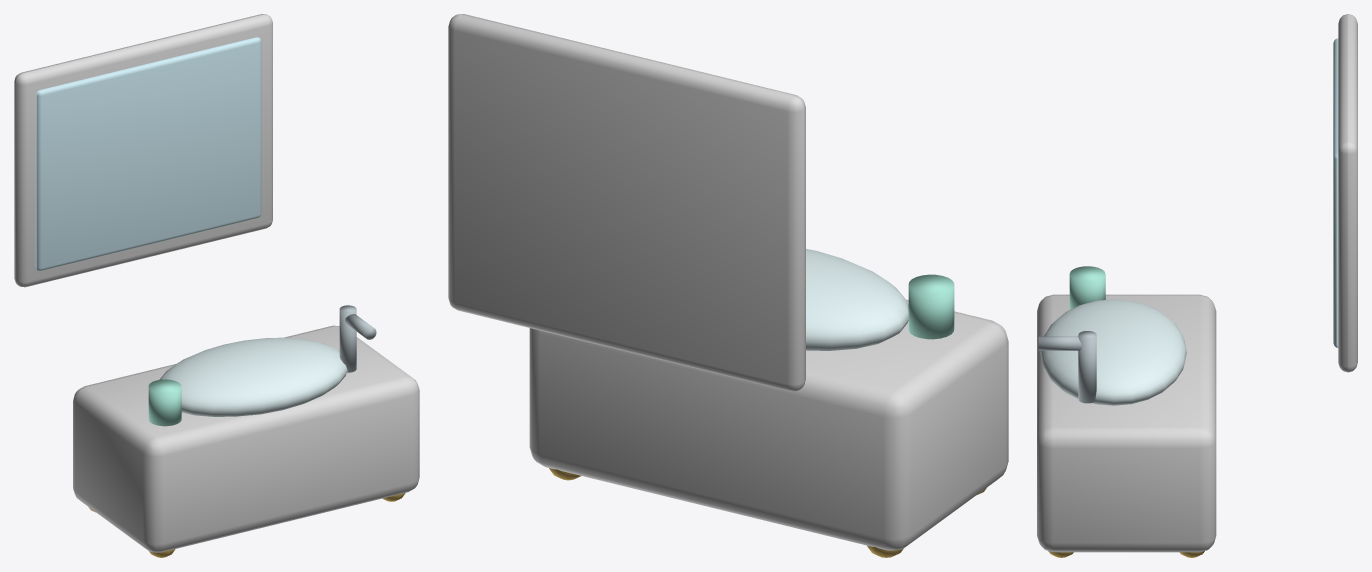
File: brush-set.glb
The picture shows the model from 3 angles, left to right: view 1: azimuth 30°, elevation 25°; view 2: azimuth 150°, elevation 25°; view 3: azimuth 270°, elevation 25°; orthographic projection. The views are drawn at different scales.
Visible parts, largest first — view 1: BrushSet; view 2: BrushSet; view 3: BrushSet.
Boxes of the visible parts, <box> form: BrushSet: <box>14,14,419,557</box>; BrushSet: <box>448,14,1008,557</box>; BrushSet: <box>1037,14,1357,557</box>.
Bounding box in the file's own units: 1.05 × 1.41 × 0.985.
